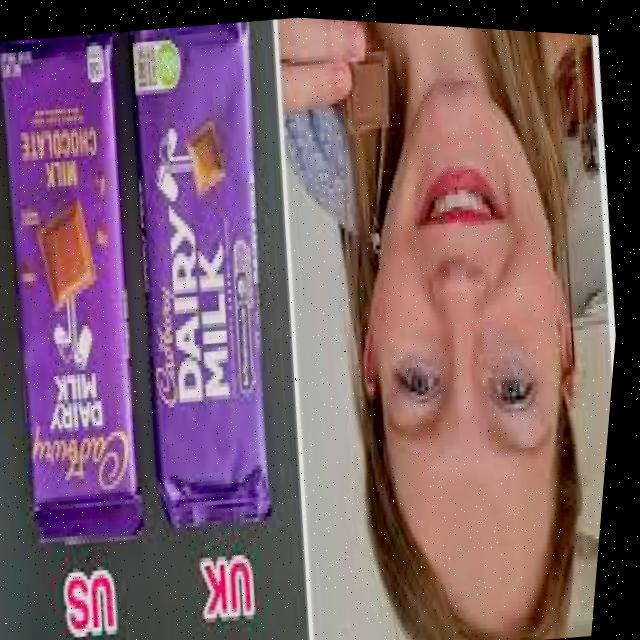cadbury: (97, 13, 318, 532), (0, 26, 180, 551)
